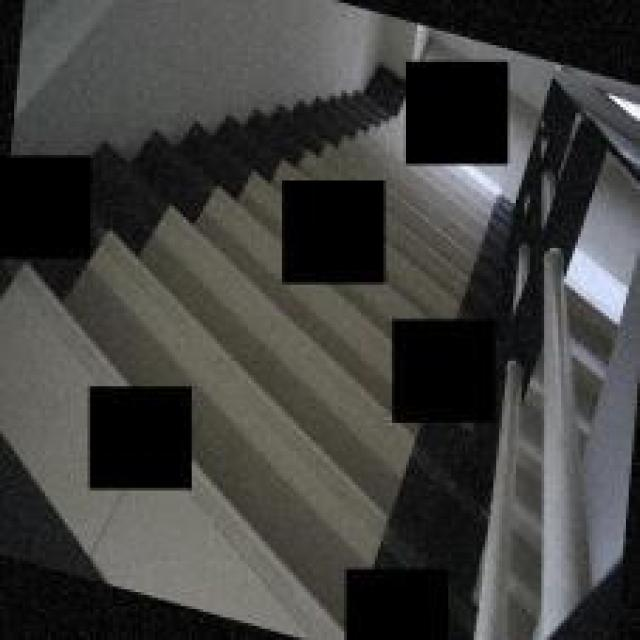downstair: (215, 280, 390, 573)
